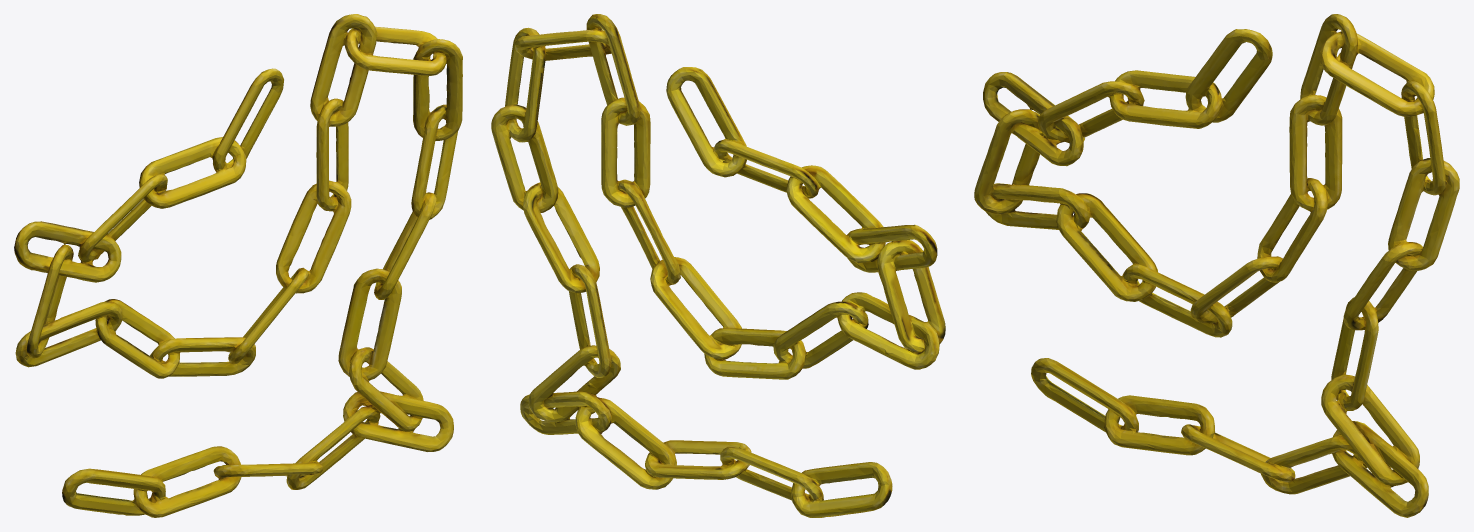
File: chain.glb
3 renders of one model, left to right at view 1: azimuth 30°, elevation 25°; view 2: azimuth 150°, elevation 25°; view 3: azimuth 330°, elevation 25°, orthographic. The views are drawn at different scales.
Parts seen in each view (by area): view 1: textured.obj; view 2: textured.obj; view 3: textured.obj.
Part boxes in pixels (left/top/right/bottom): textured.obj: left=14, top=14, right=462, bottom=517; textured.obj: left=491, top=14, right=945, bottom=517; textured.obj: left=974, top=14, right=1459, bottom=517.
Size of the model in its own units: 0.2747 by 0.2725 by 0.0245.
Materials: 1 (1 with a texture image).
